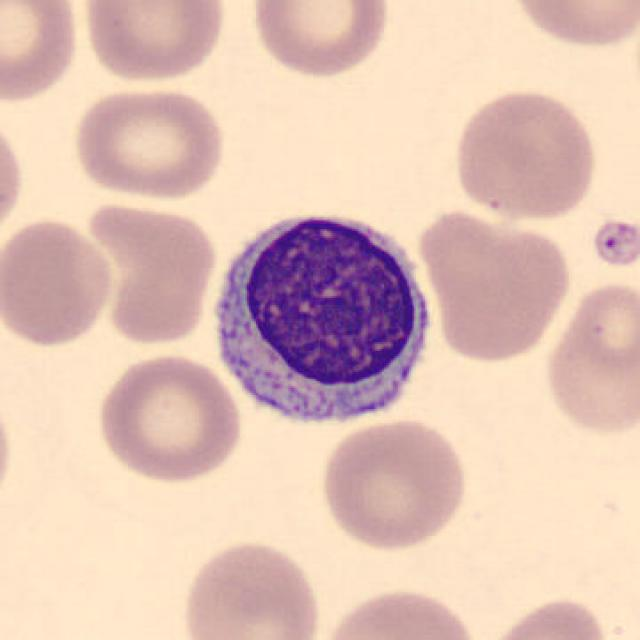Lymphocyte: (195, 196, 442, 439)
Platelets: (590, 215, 636, 270)
RBC: (416, 204, 574, 365), (317, 414, 471, 554), (448, 85, 603, 224), (92, 349, 245, 485), (82, 198, 220, 348), (68, 83, 230, 203), (540, 275, 638, 441), (2, 213, 117, 351), (176, 536, 324, 640), (78, 0, 231, 86), (245, 0, 395, 81), (312, 583, 483, 640), (0, 0, 84, 106), (502, 0, 638, 53), (480, 592, 613, 640), (0, 109, 28, 250)
